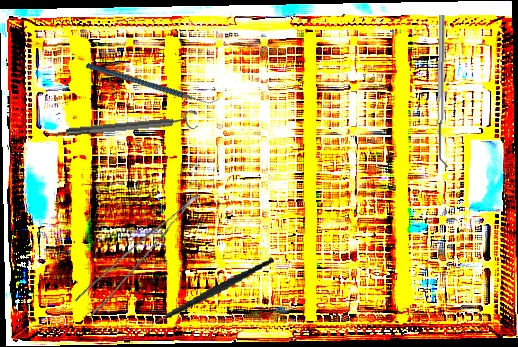Chopper: (85, 22, 221, 143), (139, 256, 282, 337)
Fixation Ring: (65, 109, 199, 142)
Spatula Surgical: (436, 14, 451, 168)
Tissue Forceps: (69, 193, 217, 319)
